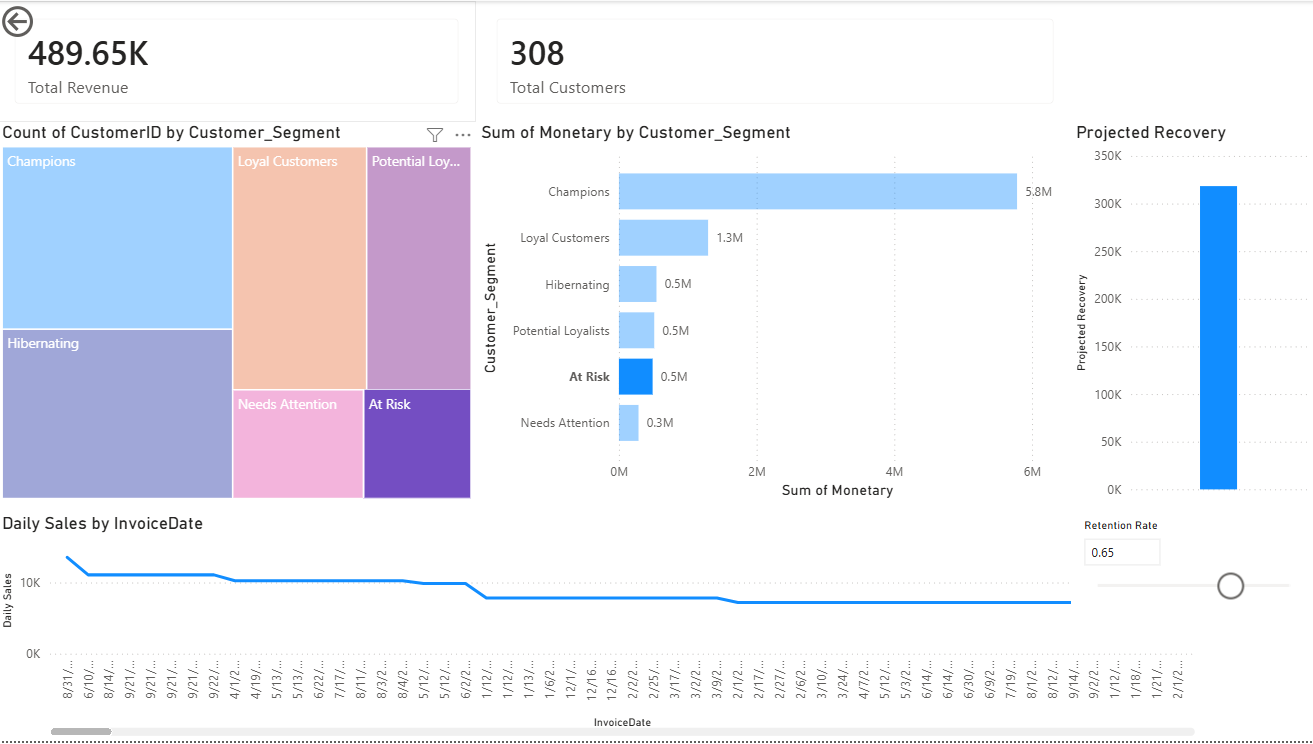

Layout of this report page (visuals, bound fields, positions):
{"tool":"powerbi","page":{"name":"Page 1","canvas":[1280,720],"ordinal":0},"visuals":[{"type":"treemap","fields":{"Group":["Fact_RFM.Customer_Segment"],"Values":["CountNonNull(Fact_RFM.CustomerID)"]},"box":[0,117.5,466.2,371.2],"z":0},{"type":"clusteredBarChart","fields":{"Category":["Fact_RFM.Customer_Segment"],"Y":["Sum(Fact_RFM.Monetary)"]},"box":[466.2,117.5,578.8,371.2],"z":1},{"type":"cardVisual","fields":{"Data":["Sum(Fact_RFM.Monetary)"]},"box":[0,0,466.2,117.5],"z":2},{"type":"cardVisual","fields":{"Data":["CountNonNull(Fact_RFM.CustomerID)"]},"box":[468.8,0,576.2,117.5],"z":3},{"type":"lineChart","fields":{"Y":["Sum(Fact_RFM.Monetary)"],"Category":["data.InvoiceDate"]},"box":[0,498.2,1170,221.8],"z":4},{"type":"slicer","fields":{"Values":["Retention Rate.Retention Rate"]},"box":[1045,498.8,235,102.5],"z":5},{"type":"actionButton","box":[0,0,100,40],"z":6},{"type":"clusteredColumnChart","fields":{"Y":["Fact_RFM.Projected Recovery"]},"box":[1045,117.5,235,371.2],"z":7}]}

Visuals, with their boxes in screenshot pixels (x1, y1, x2, y2), scaled from the page's 1280x720 canvas onto the 1313x744 screenshot:
treemap - Fact_RFM.Customer_Segment x CountNonNull(Fact_RFM.CustomerID): {"x1": 0, "y1": 121, "x2": 478, "y2": 505}
clusteredBarChart - Fact_RFM.Customer_Segment x Sum(Fact_RFM.Monetary): {"x1": 478, "y1": 121, "x2": 1072, "y2": 505}
cardVisual - Sum(Fact_RFM.Monetary): {"x1": 0, "y1": 0, "x2": 478, "y2": 121}
cardVisual - CountNonNull(Fact_RFM.CustomerID): {"x1": 481, "y1": 0, "x2": 1072, "y2": 121}
lineChart - Sum(Fact_RFM.Monetary) x data.InvoiceDate: {"x1": 0, "y1": 515, "x2": 1200, "y2": 743}
slicer - Retention Rate.Retention Rate: {"x1": 1072, "y1": 515, "x2": 1312, "y2": 621}
actionButton: {"x1": 0, "y1": 0, "x2": 103, "y2": 41}
clusteredColumnChart - Fact_RFM.Projected Recovery: {"x1": 1072, "y1": 121, "x2": 1312, "y2": 505}
